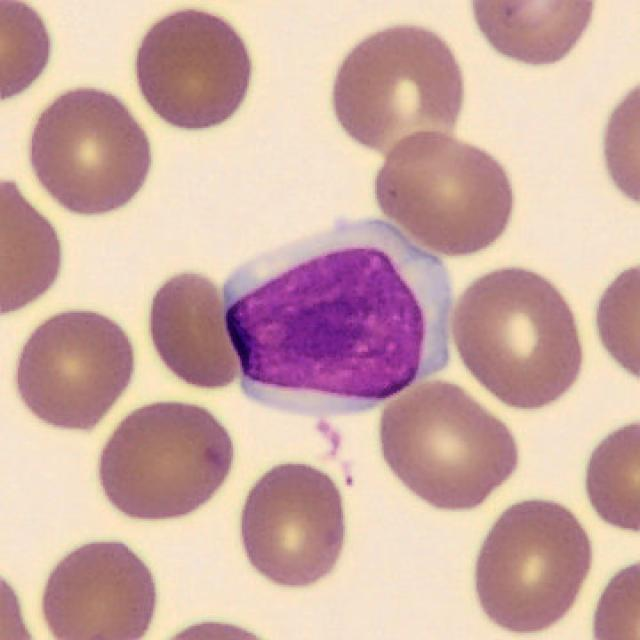Linfocito: (222, 222, 448, 418)
